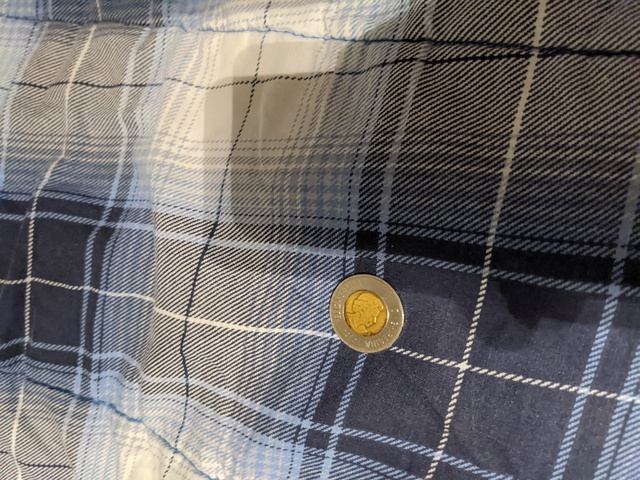twonie: (327, 270, 418, 353)
